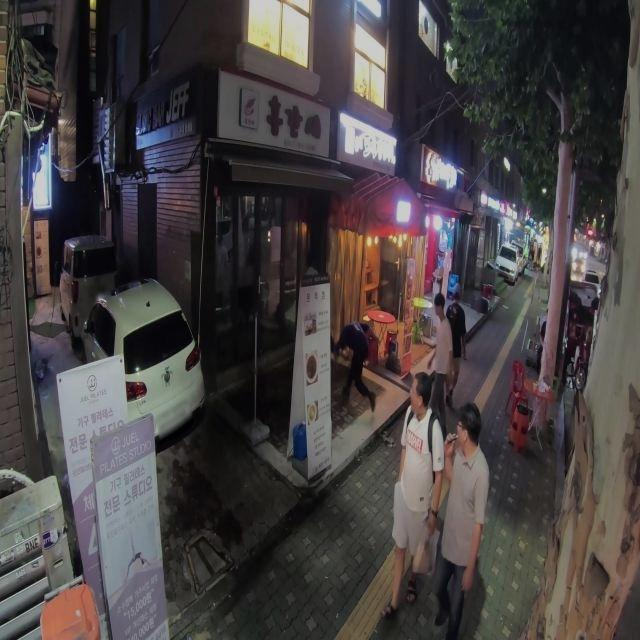non-fight: (386, 370, 442, 621), (436, 401, 492, 640), (335, 321, 383, 411), (427, 293, 454, 421)
